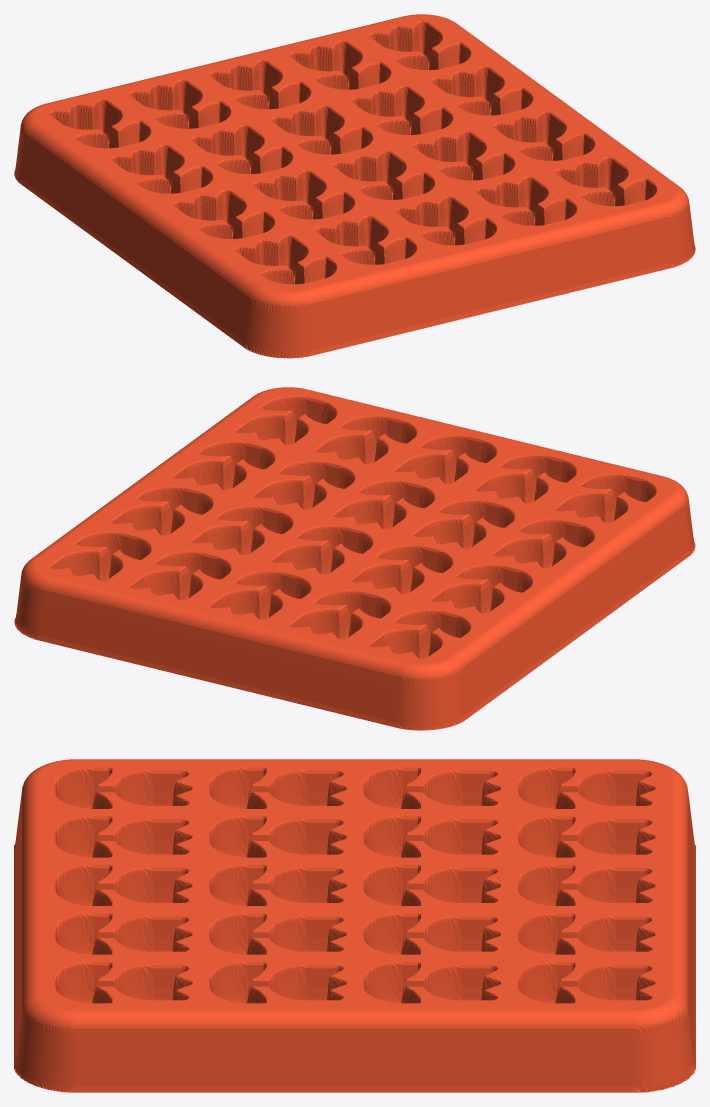
The model's file is mold.glb.
The picture shows the model from 3 angles, top to bottom: view 1: azimuth 30°, elevation 25°; view 2: azimuth 150°, elevation 25°; view 3: azimuth 270°, elevation 25°; orthographic projection. The views are drawn at different scales.
Parts seen in each view (by area): view 1: geometry_0; view 2: geometry_0; view 3: geometry_0.
Part boxes in pixels (x1,y1,x2,y2): geometry_0: [14, 14, 695, 358]; geometry_0: [14, 387, 695, 730]; geometry_0: [14, 759, 695, 1092].
Bounding box in the file's own units: 0.0912 × 0.0114 × 0.0972.
